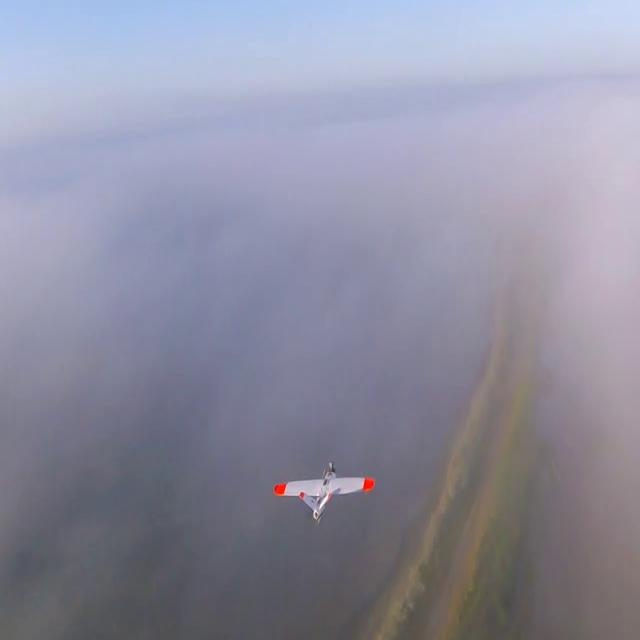iha: (304, 490, 344, 496)
